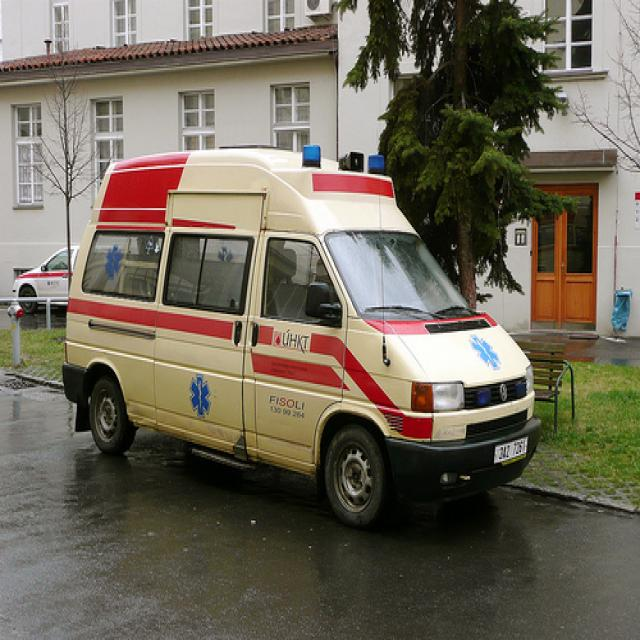emergency-vehicle: (68, 148, 544, 536)
